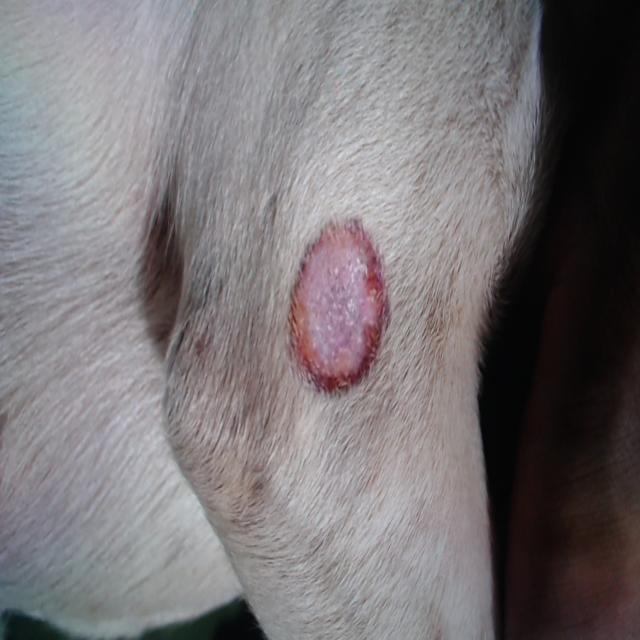ringworm: (281, 178, 395, 408)
